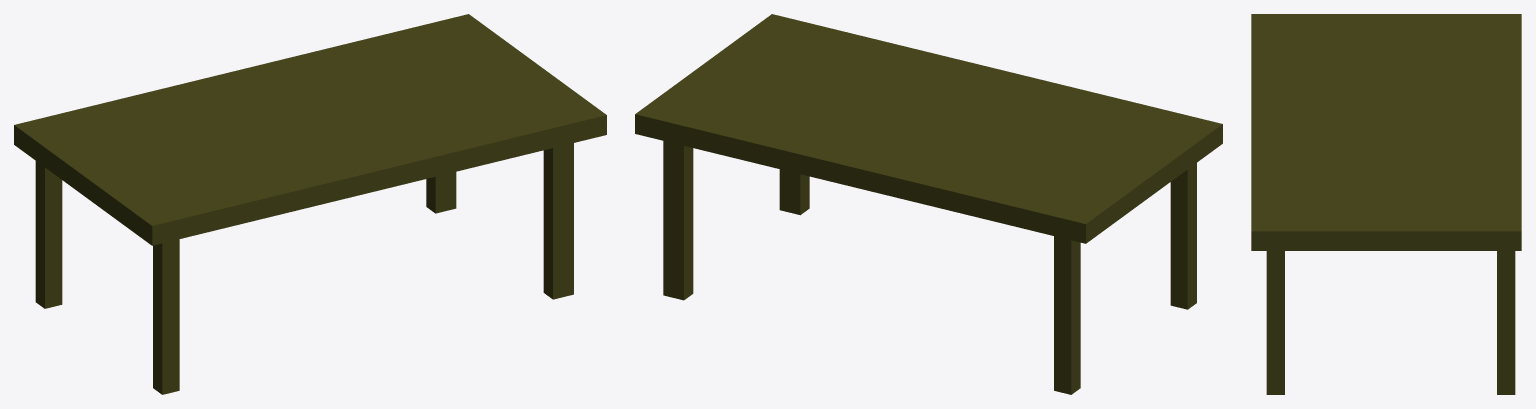
File: blockout_Diner_Table.fbx
3 views of the same model, side by side, from view 1: azimuth 30°, elevation 25°; view 2: azimuth 150°, elevation 25°; view 3: azimuth 270°, elevation 25° (orthographic). The views are drawn at different scales.
Parts seen in each view (by area): view 1: blockout_Diner_Table; view 2: blockout_Diner_Table; view 3: blockout_Diner_Table.
Boxes of the visible parts, left/top/right/bottom form: blockout_Diner_Table: left=14, top=14, right=606, bottom=394; blockout_Diner_Table: left=635, top=14, right=1222, bottom=394; blockout_Diner_Table: left=1251, top=14, right=1521, bottom=394.
Bounding box in the file's own units: 132 × 49.79 × 69.57.
Materials: 1 (1 with a texture image).
